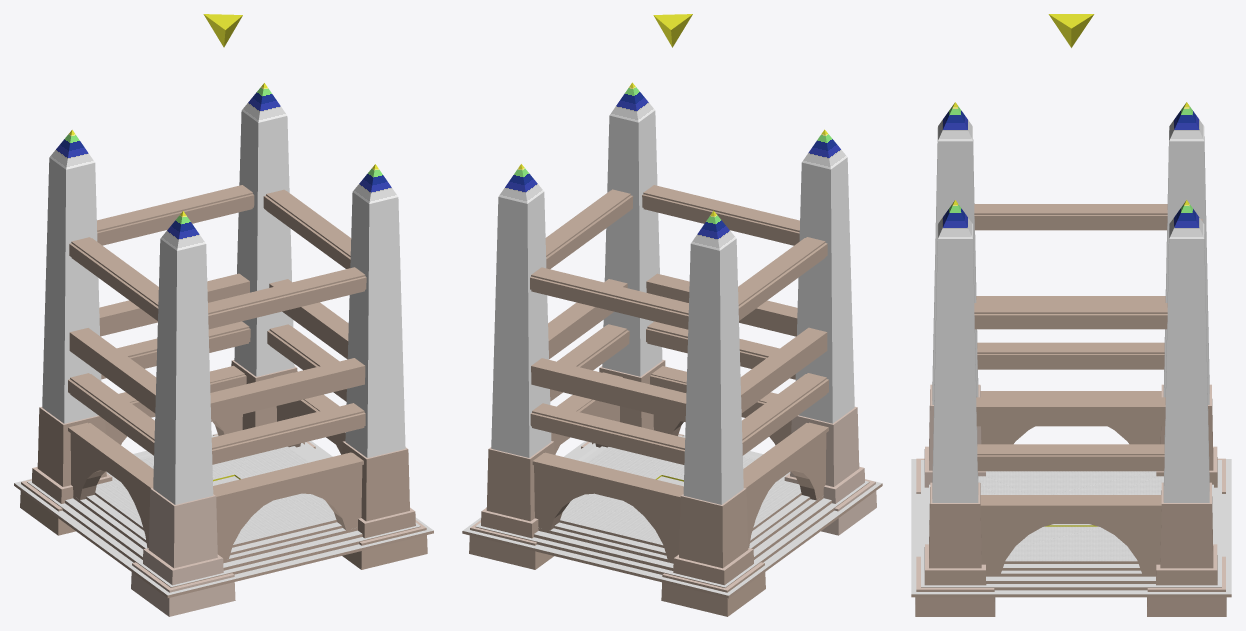
Rendered from TOWER.fbx.
3 renders of one model, left to right at view 1: azimuth 30°, elevation 25°; view 2: azimuth 150°, elevation 25°; view 3: azimuth 270°, elevation 25°, orthographic. The views are drawn at different scales.
Parts seen in each view (by area): view 1: obelisk1, TOWER_FLOOR3, TOWER_FLOOR0, archs, TOWER_FLOOR2, EndTriedra; view 2: obelisk1, TOWER_FLOOR3, TOWER_FLOOR0, archs, TOWER_FLOOR2, EndTriedra; view 3: obelisk1, TOWER_FLOOR0, TOWER_FLOOR3, archs, TOWER_FLOOR2, EndTriedra.
Part boxes in pixels (x1,y1,x2,y2): obelisk1: (20,83,427,616); TOWER_FLOOR3: (69,185,366,421); TOWER_FLOOR0: (14,433,433,597); archs: (68,365,363,560); TOWER_FLOOR2: (68,321,365,500); EndTriedra: (203,14,242,47); obelisk1: (469,82,876,616); TOWER_FLOOR3: (530,185,827,421); TOWER_FLOOR0: (462,433,882,598); archs: (532,366,828,560); TOWER_FLOOR2: (530,321,828,500); EndTriedra: (653,14,692,47); obelisk1: (915,102,1226,616); TOWER_FLOOR0: (911,459,1231,597); TOWER_FLOOR3: (940,204,1202,426); archs: (980,391,1161,573); TOWER_FLOOR2: (977,342,1164,523); EndTriedra: (1048,14,1094,47).
Size of the model in its own units: 417 by 417 by 764.
